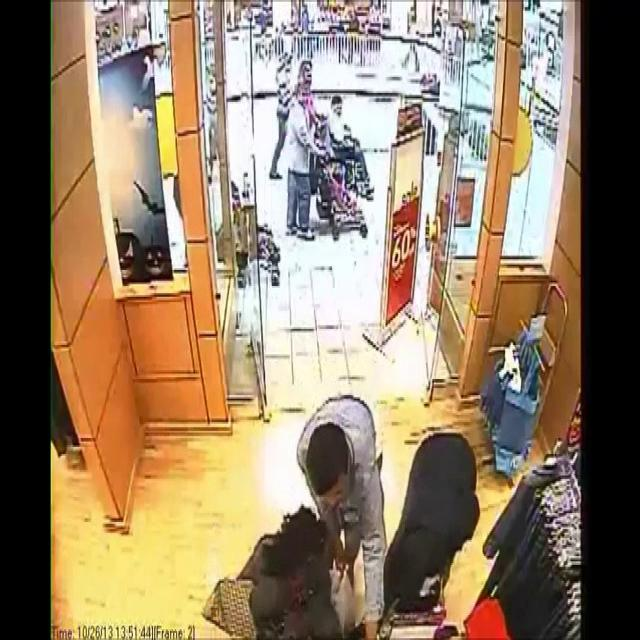normal: (282, 349, 380, 500)
shoplifting: (364, 418, 477, 640), (227, 476, 333, 640)
